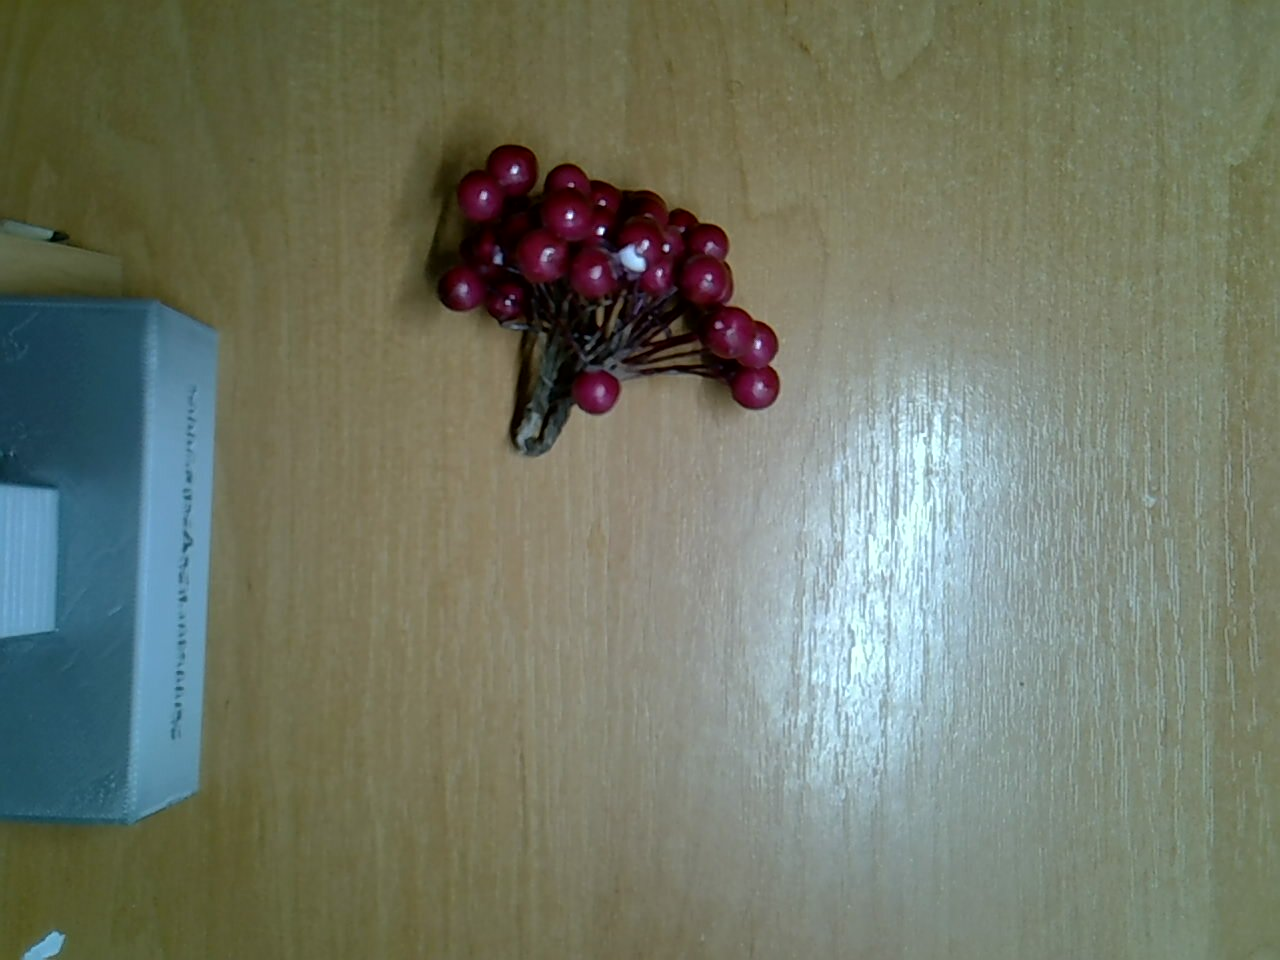berries: (422, 139, 797, 467)
